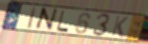3: (92, 13, 110, 38)
6: (75, 12, 92, 35)
I: (26, 6, 38, 30)
K: (110, 15, 130, 39)
L: (56, 10, 70, 34)
N: (33, 6, 60, 32)
